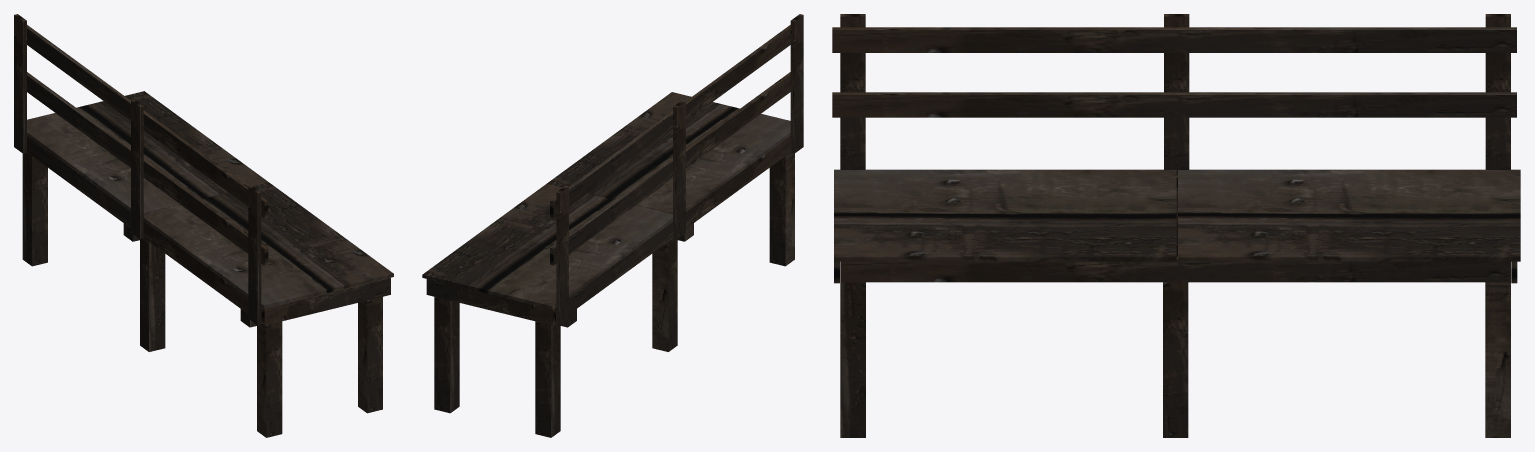
The model's file is SM_Forge_Table_1.FBX.
3 views of the same model, side by side, from view 1: azimuth 30°, elevation 25°; view 2: azimuth 150°, elevation 25°; view 3: azimuth 270°, elevation 25° (orthographic). The views are drawn at different scales.
Parts seen in each view (by area): view 1: SM_Forge_Table_1; view 2: SM_Forge_Table_1; view 3: SM_Forge_Table_1.
Boxes of the visible parts, x1,y1,x2,y2 form: SM_Forge_Table_1: [14, 14, 393, 437]; SM_Forge_Table_1: [422, 14, 803, 437]; SM_Forge_Table_1: [832, 14, 1520, 437].
Size of the model in its own units: 84.49 by 273 by 149.
